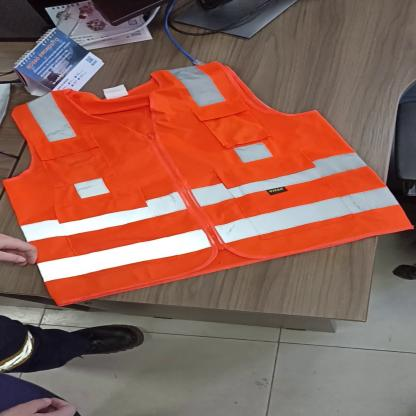colete: (0, 61, 416, 312)
